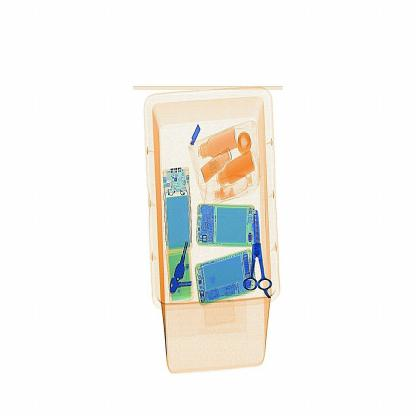gun: (238, 205, 278, 302)
